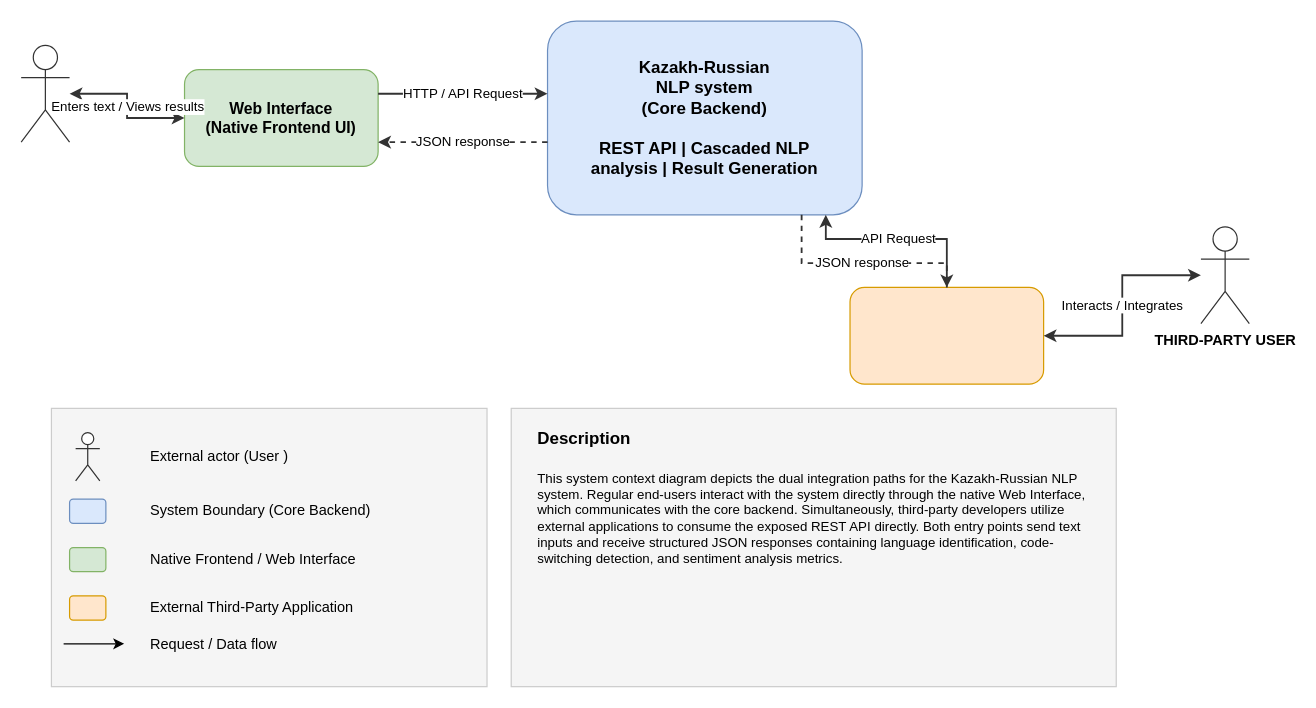
This 1316x708 diagram has some shape labels left out. The shapes that lost their labels are listed below. From the top down, each one's centre as x and y in pixels, then its label:
pixel 45 93: USER
pixel 946 335: External Application (Third-Party API Client)
